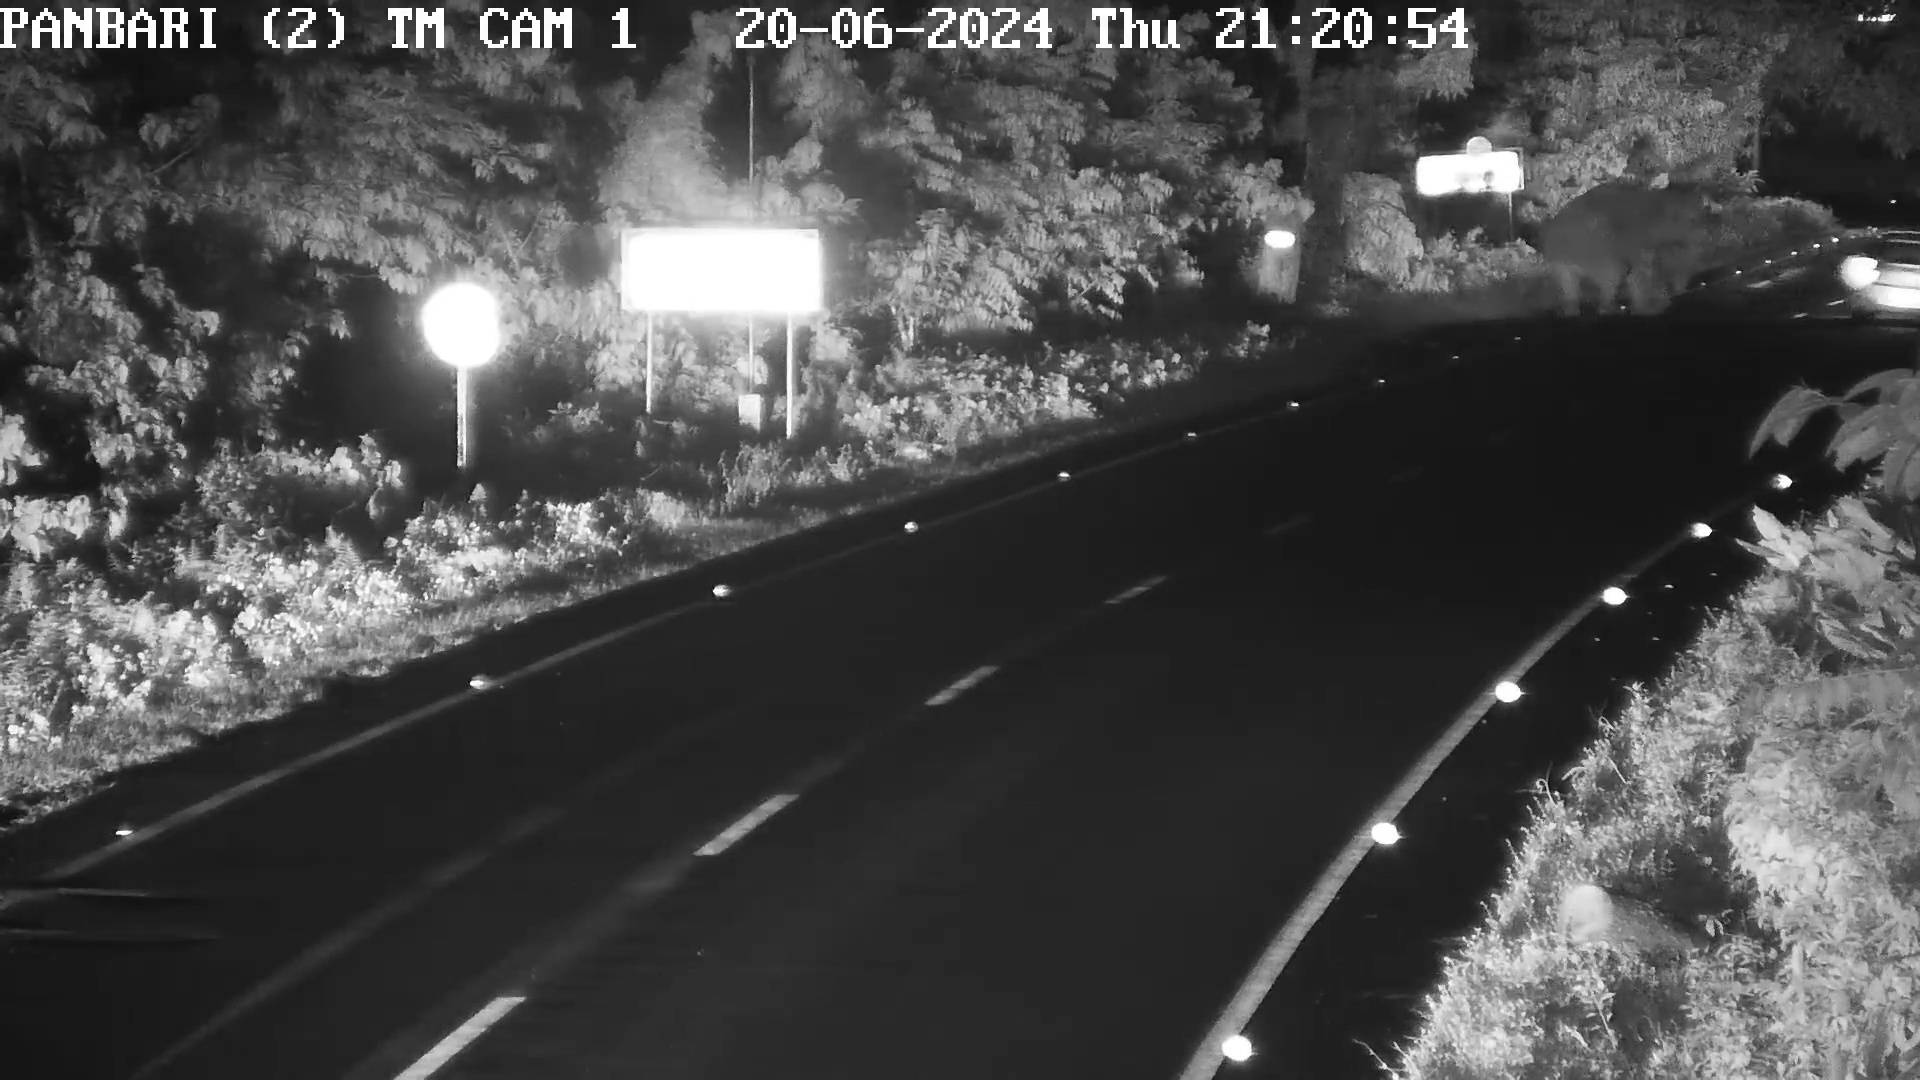elephants: (1522, 167, 1716, 318)
